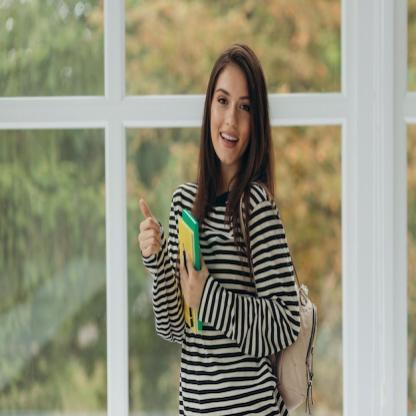thumb_up: (136, 195, 164, 262)
